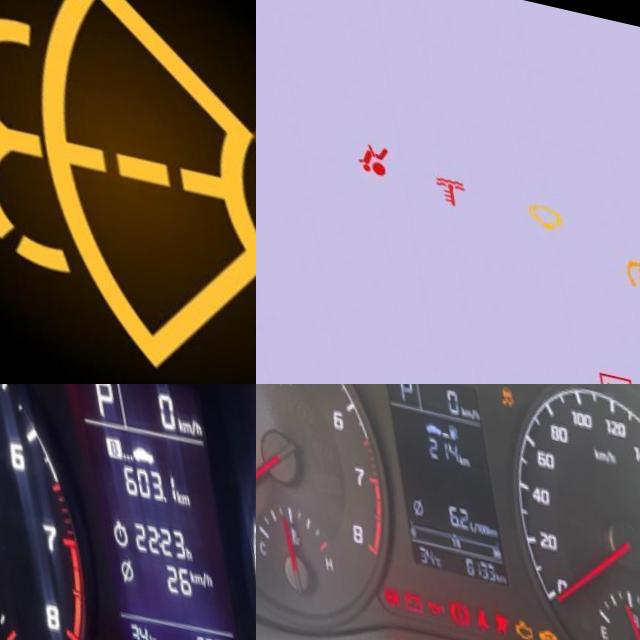Electronic Power Steering: (364, 570, 389, 602)
Washer Fluid: (0, 0, 256, 376)
